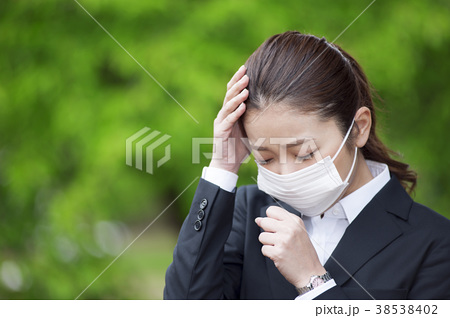mask: (249, 162, 353, 224)
